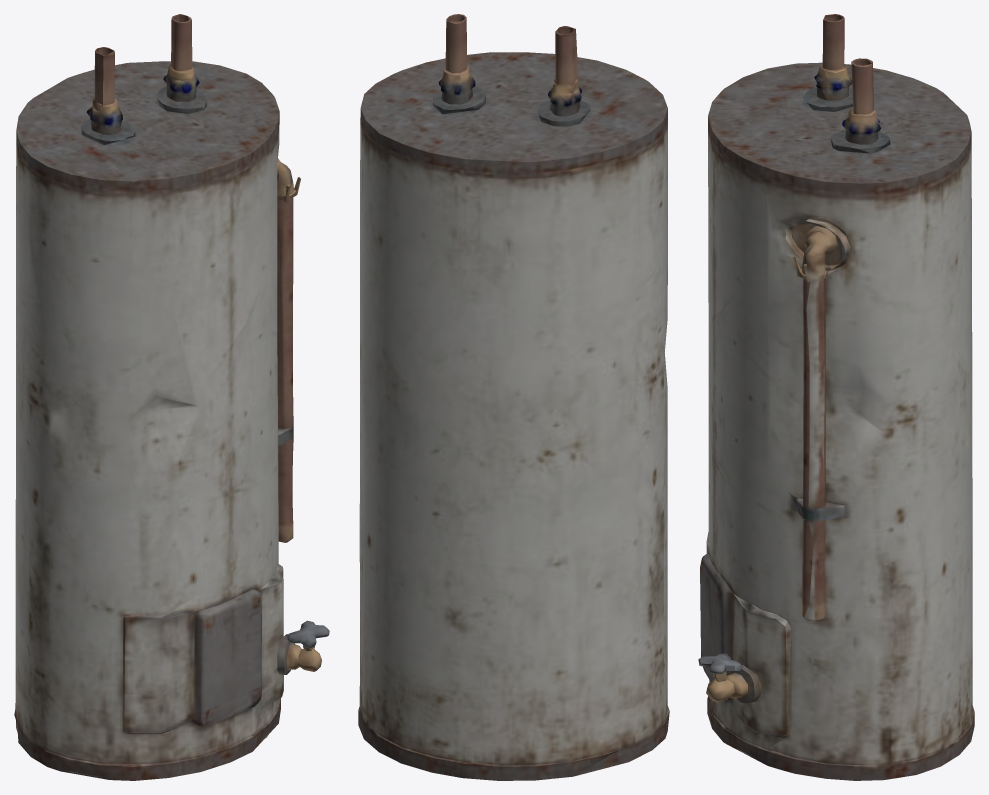
Rendered from p7-water-heater-tank.glb.
3 renders of one model, left to right at view 1: azimuth 30°, elevation 25°; view 2: azimuth 150°, elevation 25°; view 3: azimuth 270°, elevation 25°, orthographic. The views are drawn at different scales.
Parts seen in each view (by area): view 1: p7-water-heater-tank; view 2: p7-water-heater-tank; view 3: p7-water-heater-tank.
Boxes of the visible parts, x1,y1,x2,y2 form: p7-water-heater-tank: (14,14,329,780); p7-water-heater-tank: (358,14,669,780); p7-water-heater-tank: (698,14,974,780).
Bounding box in the file's own units: 0.6 × 1.5 × 0.5521.
1 material, 1 textured.
